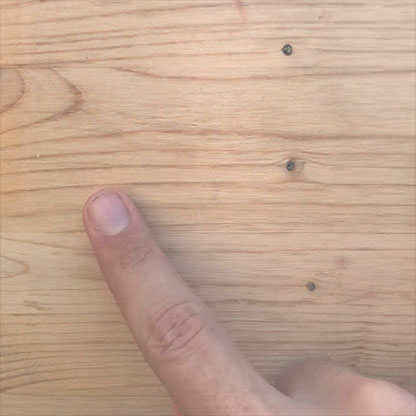fingertip: (74, 178, 145, 253)
